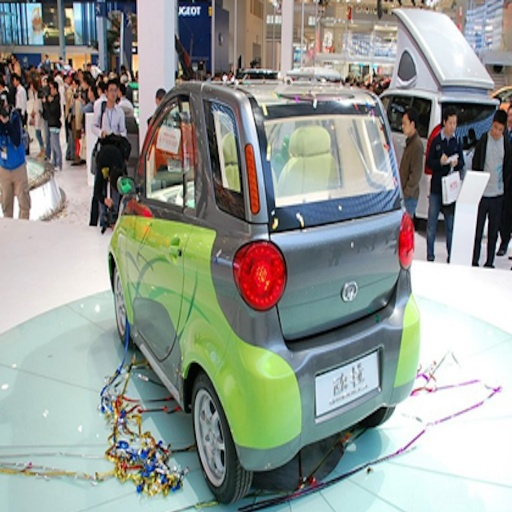back_bumper: (229, 281, 414, 468)
back_left_light: (221, 150, 261, 221), (232, 252, 280, 310)
back_right_door: (147, 93, 185, 208)
front_left_door: (133, 213, 178, 346)
trunk: (261, 145, 403, 372), (162, 225, 238, 287)
